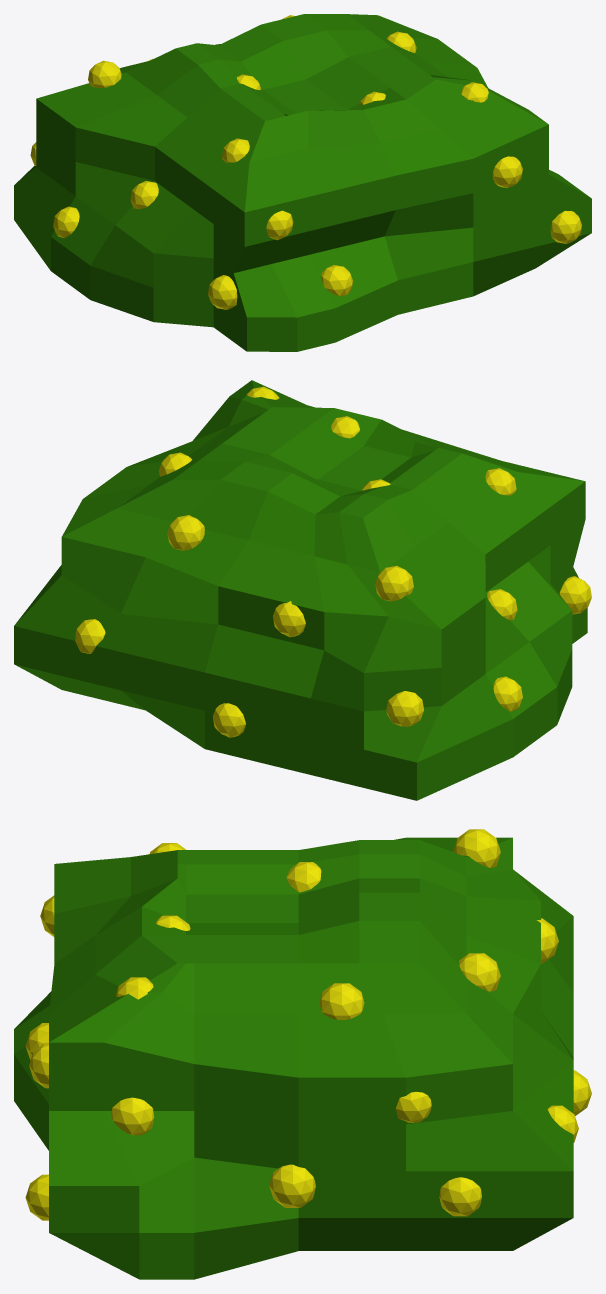
File: y bush.fbx
3 views of the same model, one above another, from view 1: azimuth 30°, elevation 25°; view 2: azimuth 150°, elevation 25°; view 3: azimuth 270°, elevation 25° (orthographic). The views are drawn at different scales.
Visible parts, largest first — view 1: Cube, Icosphere.019; view 2: Cube, Icosphere.019; view 3: Cube, Icosphere.019.
Part boxes in pixels (x1,y1,x2,y2): Cube: [14, 14, 591, 351]; Icosphere.019: [30, 15, 581, 309]; Cube: [14, 380, 587, 800]; Icosphere.019: [75, 386, 591, 737]; Cube: [14, 837, 573, 1279]; Icosphere.019: [25, 829, 591, 1220].
Size of the model in its own units: 623 by 276 by 560.
